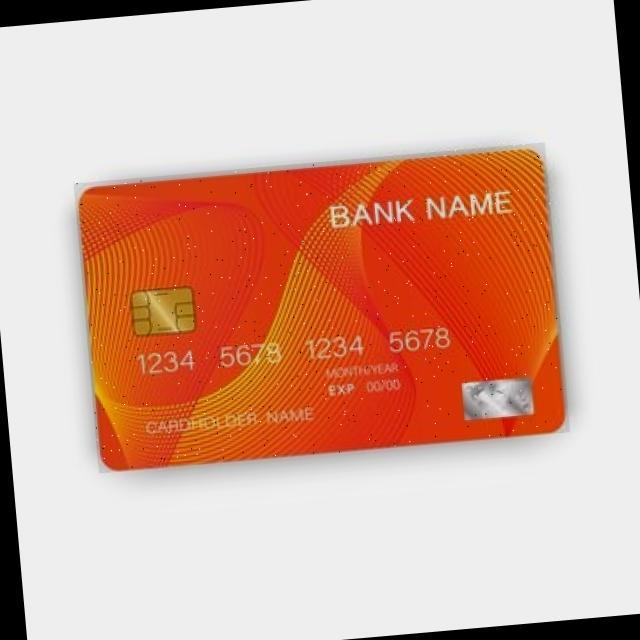payment_card: (74, 142, 567, 471)
